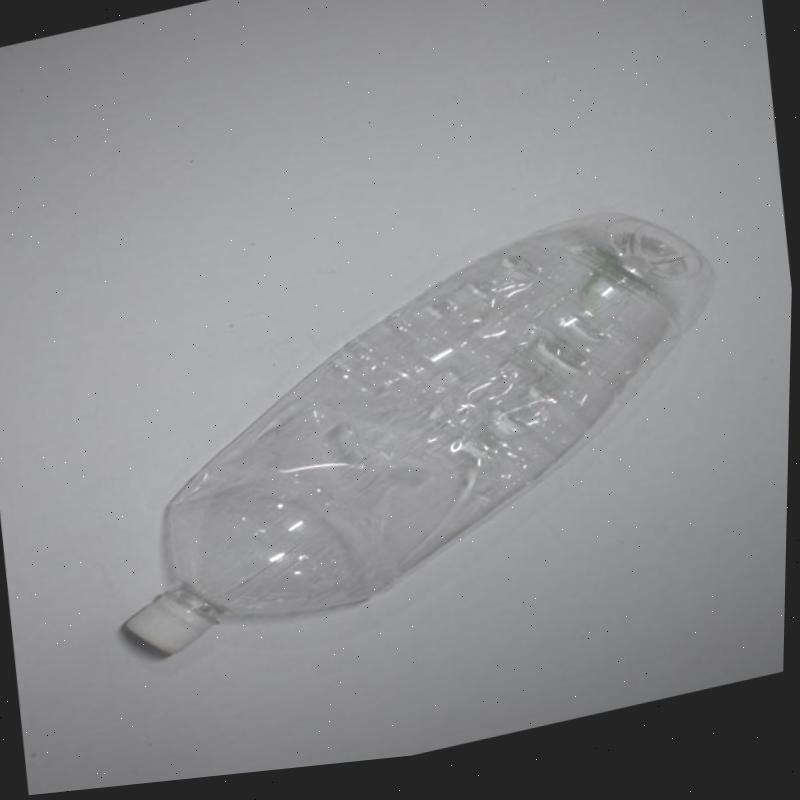botella: (80, 196, 753, 676)
